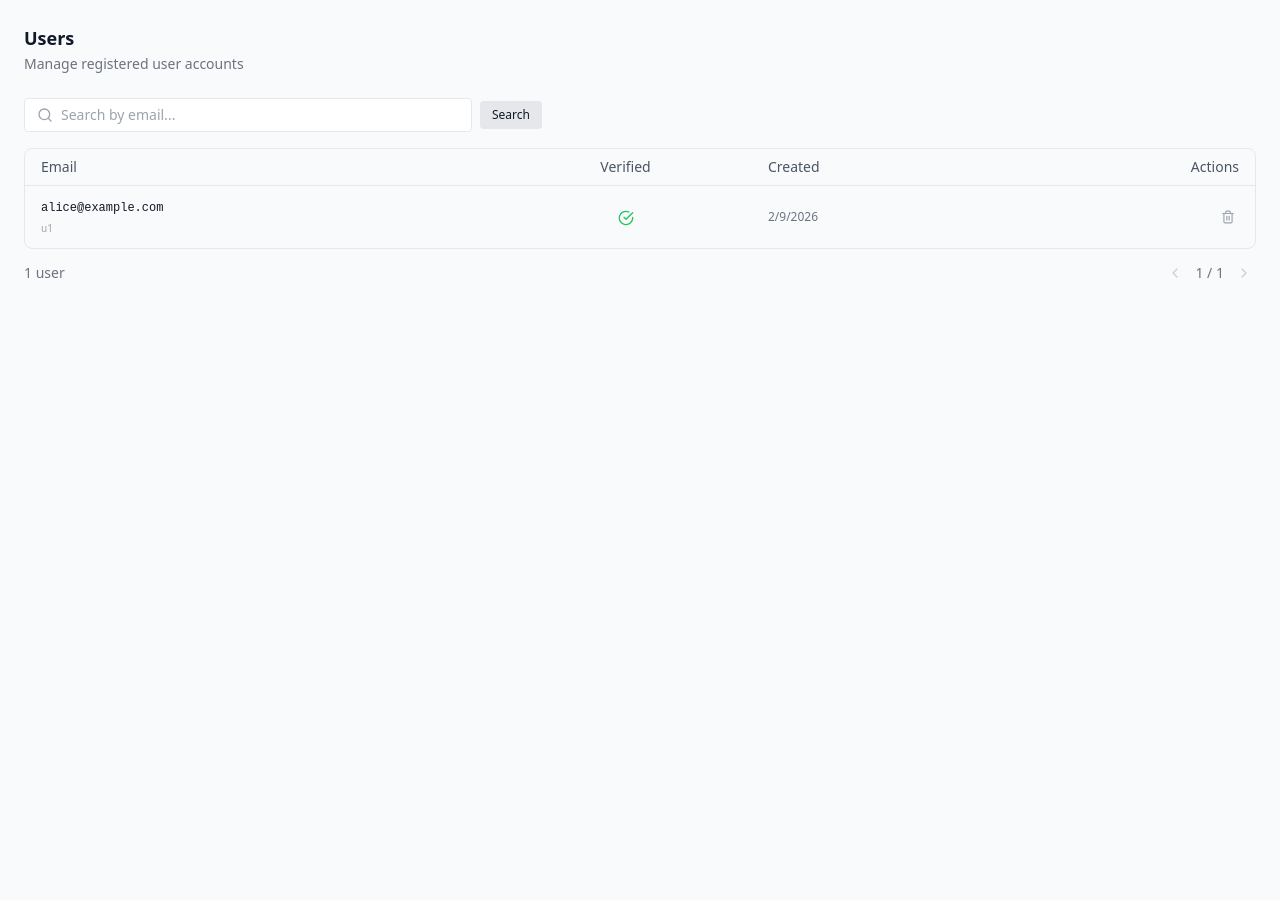
Test: Users › cancel on delete dialog closes it
This screenshot has width=1280, height=900.
Expected: the text "alice@example.com" is shown, top-left (41, 201), bottom-right (163, 215)
Click the button titled "Delete user": coordinates (1228, 217) top-left (1217, 206), bottom-right (1239, 228)
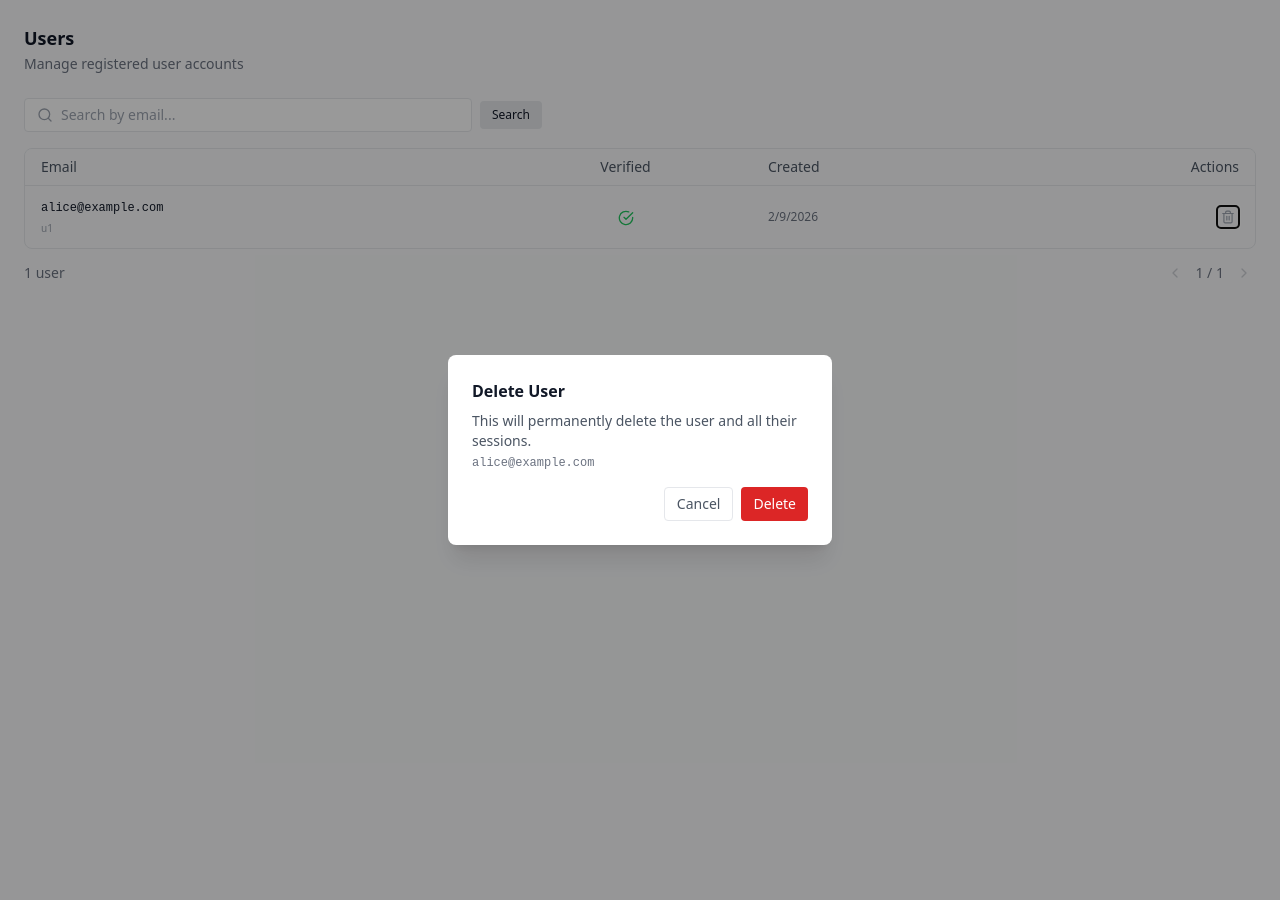
Now the heading "Delete User" is shown, box top-left (472, 380), bottom-right (565, 402)
Click the button "Cancel": coordinates (699, 504) top-left (664, 487), bottom-right (733, 521)
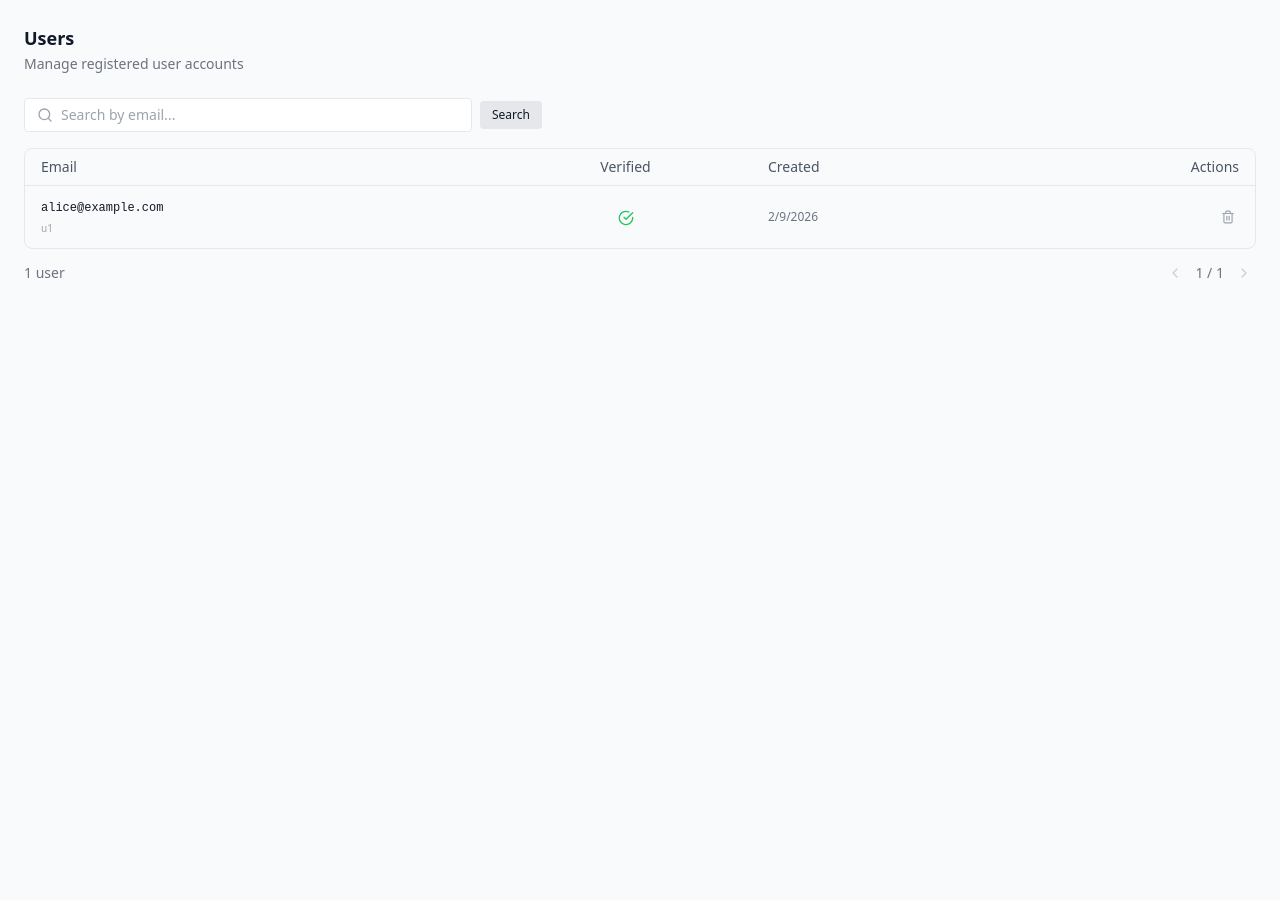
Now the heading "Delete User" is gone
